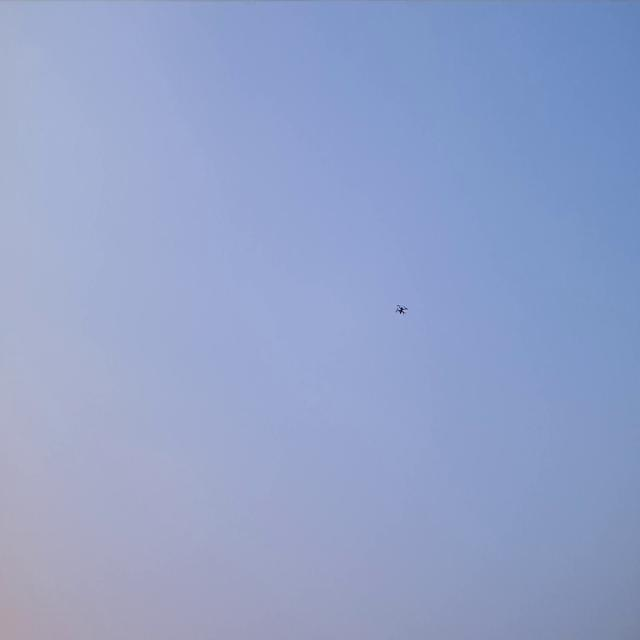UAV: (395, 303, 409, 317)
